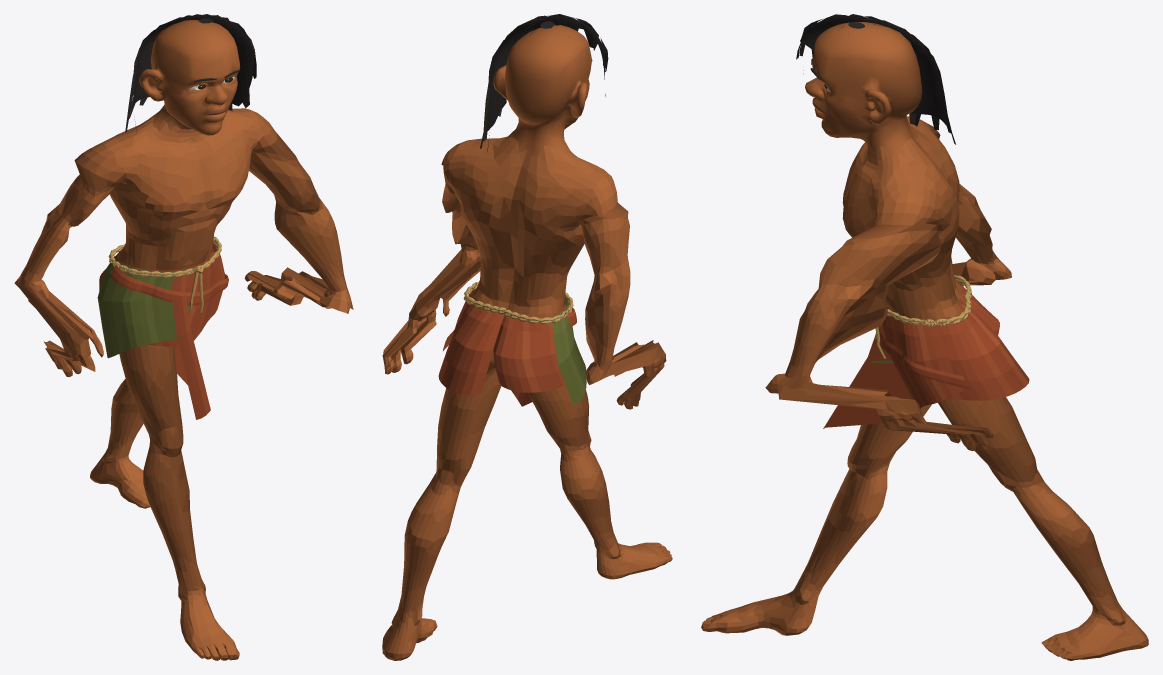
Rendered from homem_01.glb.
3 renders of one model, left to right at view 1: azimuth 30°, elevation 25°; view 2: azimuth 150°, elevation 25°; view 3: azimuth 270°, elevation 25°, orthographic. The views are drawn at different scales.
Parts seen in each view (by area): view 1: homem_01_corpo; view 2: homem_01_corpo; view 3: homem_01_corpo.
Boxes of the visible parts, x1=… form: homem_01_corpo: x1=14, y1=14, x2=353, y2=660; homem_01_corpo: x1=382, y1=14, x2=672, y2=660; homem_01_corpo: x1=701, y1=14, x2=1148, y2=660.
Size of the model in its own units: 0.7461 by 1.7 by 1.1.
